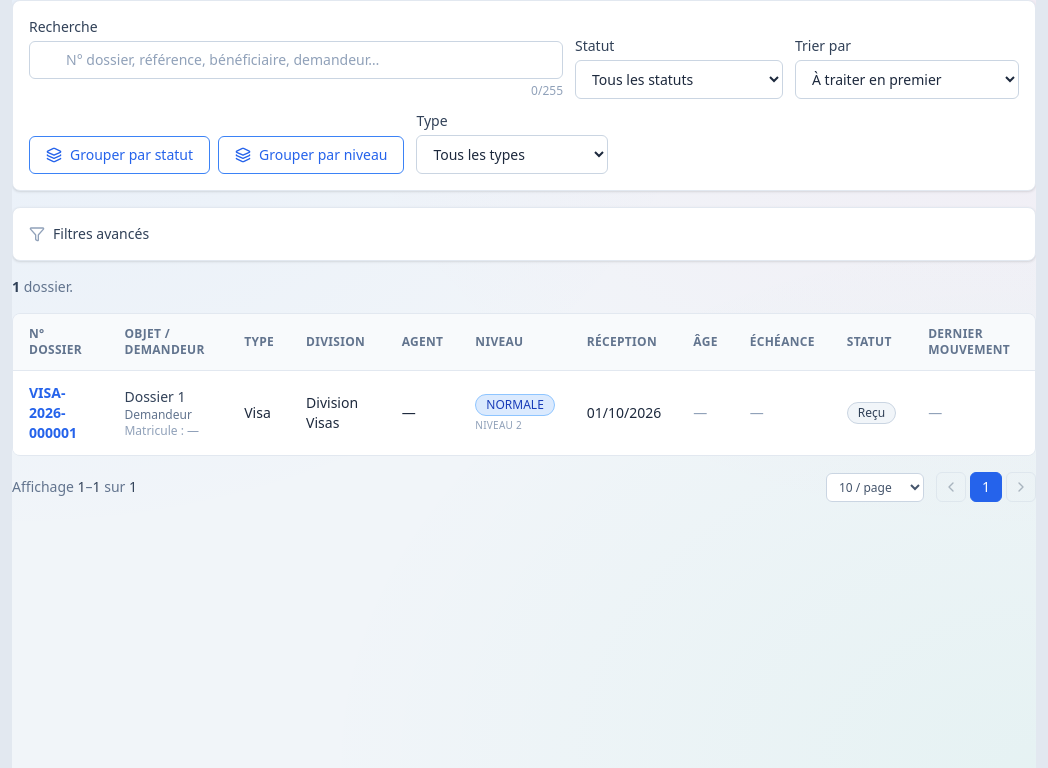
Test: Liste des dossiers — regroupement par statut › n’ouvre aucune section pour un statut absent
Expected: the link "VISA-2026-000001" is shown, [29,383,77,442]
Step 1. Click the button "Grouper par statut" → (120,155), box [29,136,210,174]
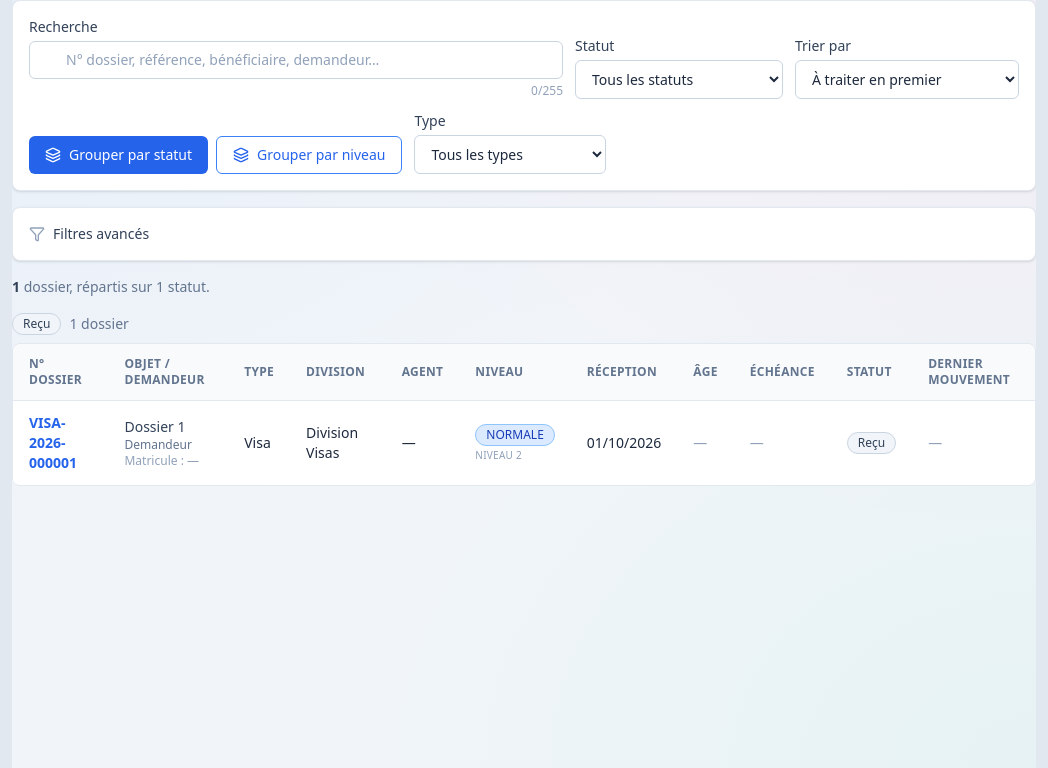
Now the element named "Dossiers Reçu" is shown, box [12,313,1036,486]
